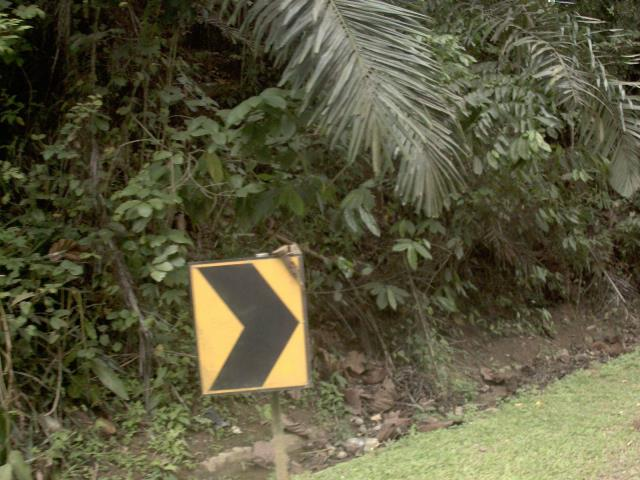traffic_sign: (171, 236, 324, 409)
